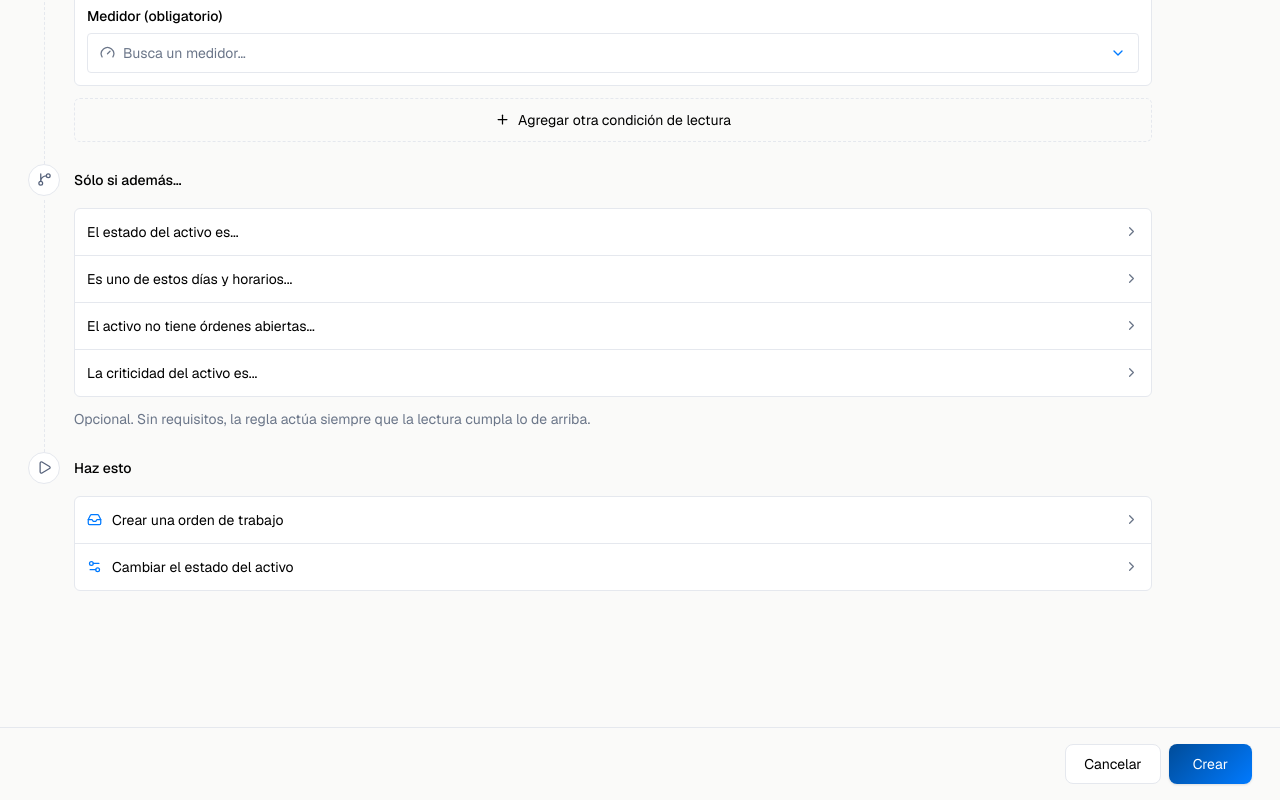
Test: AutomatizacionCrearPanel — validación › exige un nombre
(page scrolled)
What coordinates should you click on to do the following:
click the button "Crear"
I would click on:
 (1210, 764)
Its box is [1169,744,1252,784].
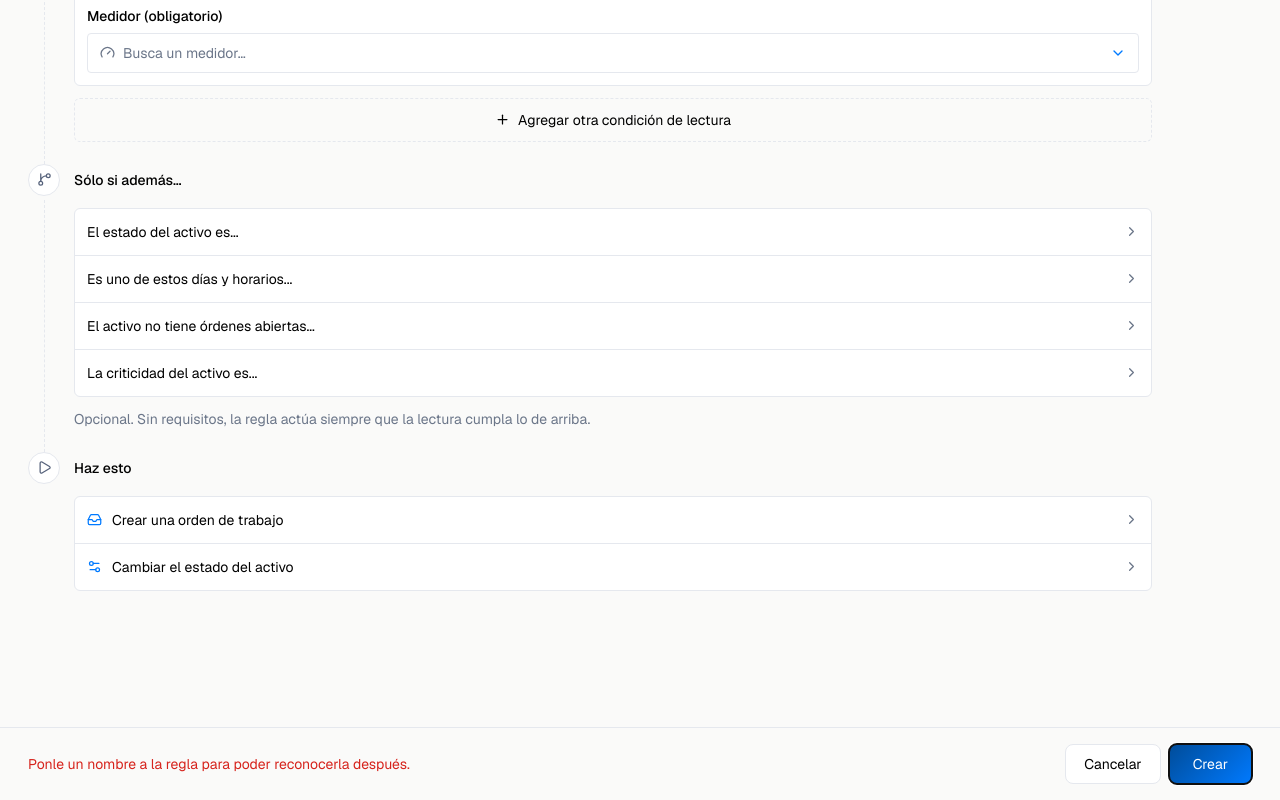
Result: the text "Ponle un nombre a la regla para poder reconocerla después." is shown at [28,755,410,773]
